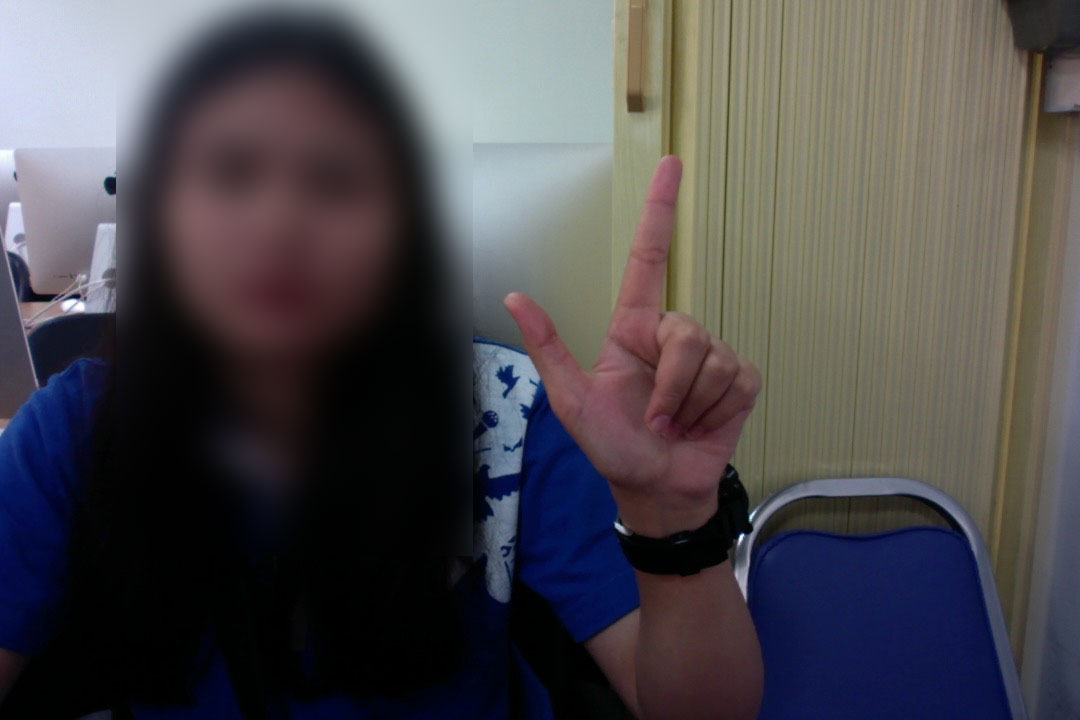lor: (497, 148, 772, 549)
